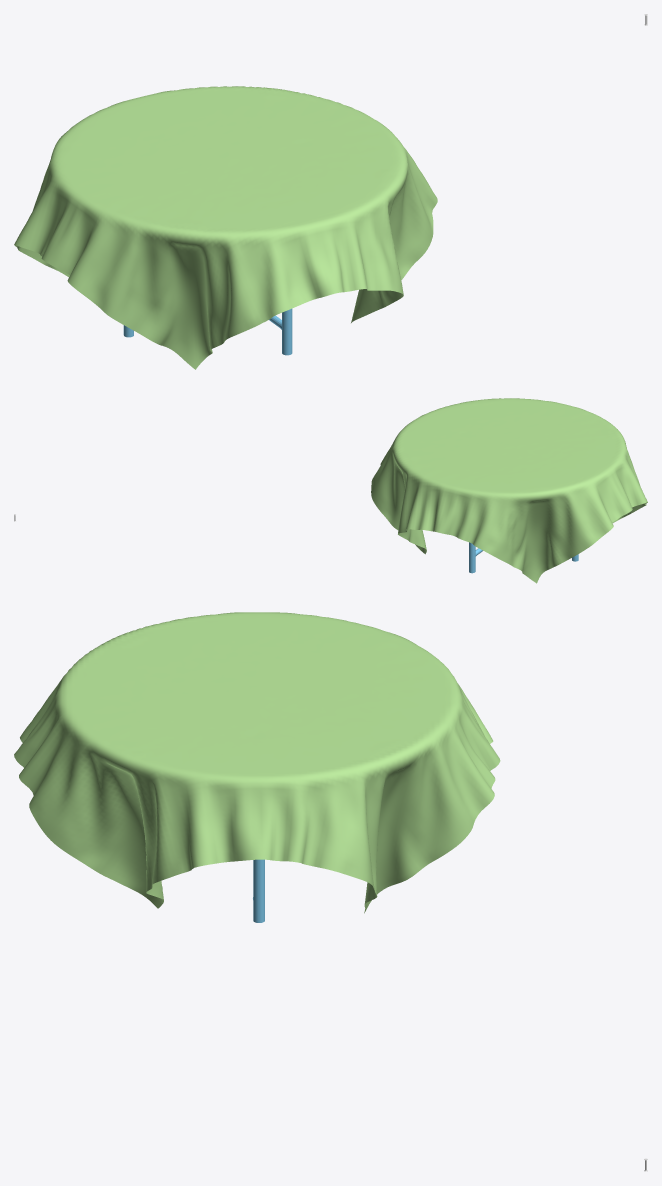
The model's file is table.glb.
The picture shows the model from 3 angles, top to bottom: view 1: azimuth 30°, elevation 25°; view 2: azimuth 150°, elevation 25°; view 3: azimuth 270°, elevation 25°; orthographic projection. The views are drawn at different scales.
Parts seen in each view (by area): view 1: tablecloth, 直柱2; view 2: tablecloth, 直柱2; view 3: tablecloth, 直柱2.
Part boxes in pixels (bbox=[...]): tablecloth: bbox=[14, 86, 437, 369]; 直柱2: bbox=[123, 14, 647, 355]; tablecloth: bbox=[371, 398, 647, 583]; 直柱2: bbox=[14, 514, 578, 573]; tablecloth: bbox=[14, 612, 500, 913]; 直柱2: bbox=[253, 859, 647, 1171].
Size of the model in its own units: 9.67 by 1.84 by 6.05.
